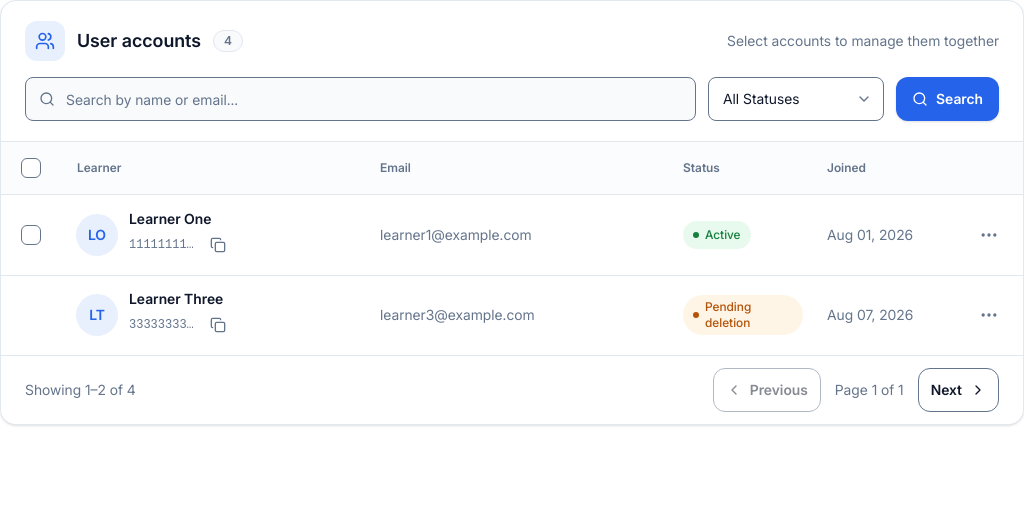
Admin Shell & Operations › selects only writable accounts on the current page and clears them on navigation
Click the checkbox named "Select accounts on this page". click: click(31, 168)
box: [21,158,41,178]
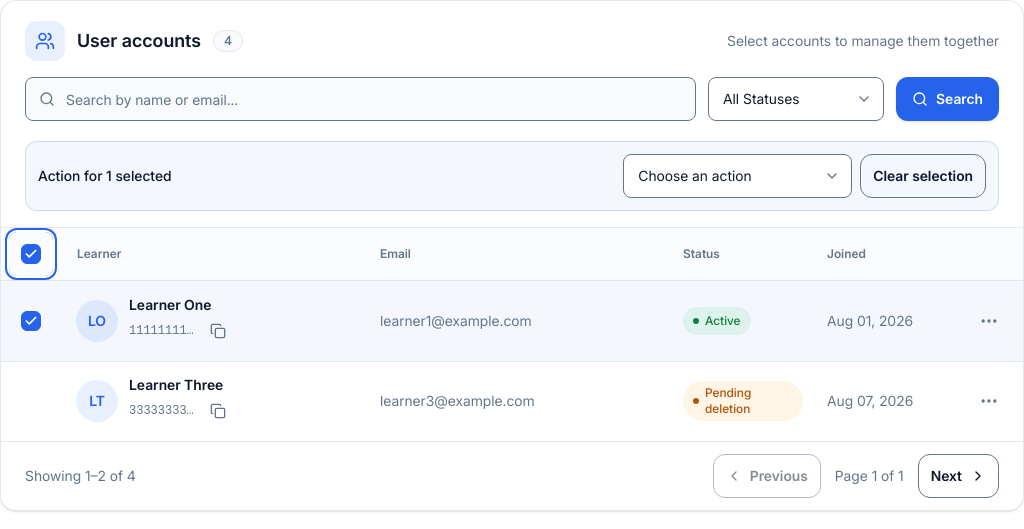
Expected: the checkbox named "Select this account" is checked, [21,311,41,331]
Expected: the text "Action for 1 selected" is shown, [38,166,172,186]
Click the button "Next". click: click(958, 476)
box: [918,454,999,498]
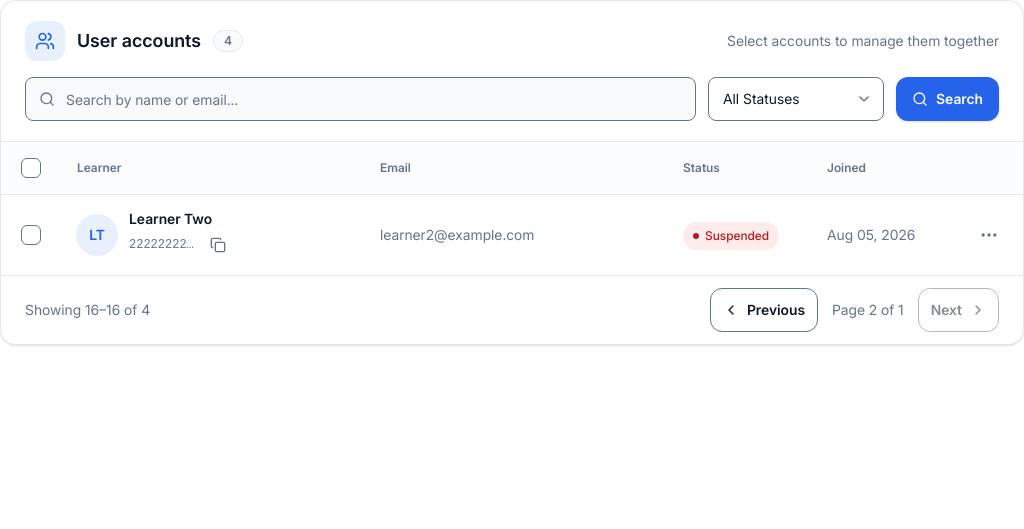
Expected: the text "Action for 1 selected" is gone
Expected: the checkbox named "Select this account" is not checked, [21,225,41,245]
